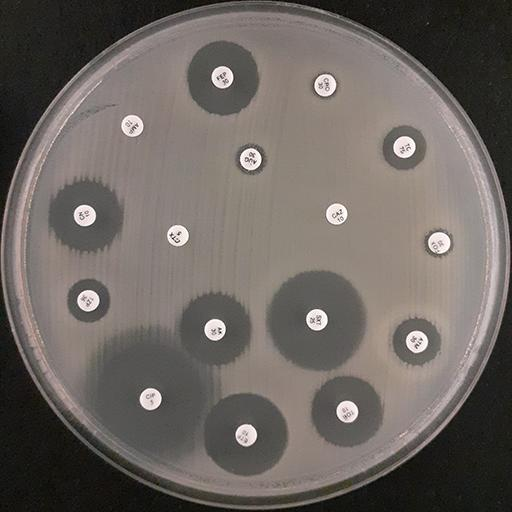disc: (426, 230, 452, 255), (313, 71, 337, 97), (233, 422, 258, 446), (203, 317, 227, 342), (239, 145, 263, 170), (405, 330, 429, 354), (335, 399, 359, 423), (76, 288, 100, 312), (73, 201, 97, 225), (120, 113, 144, 137), (165, 222, 189, 246), (211, 65, 234, 89), (393, 134, 417, 157), (137, 387, 161, 410), (305, 308, 328, 331), (325, 201, 348, 224)
